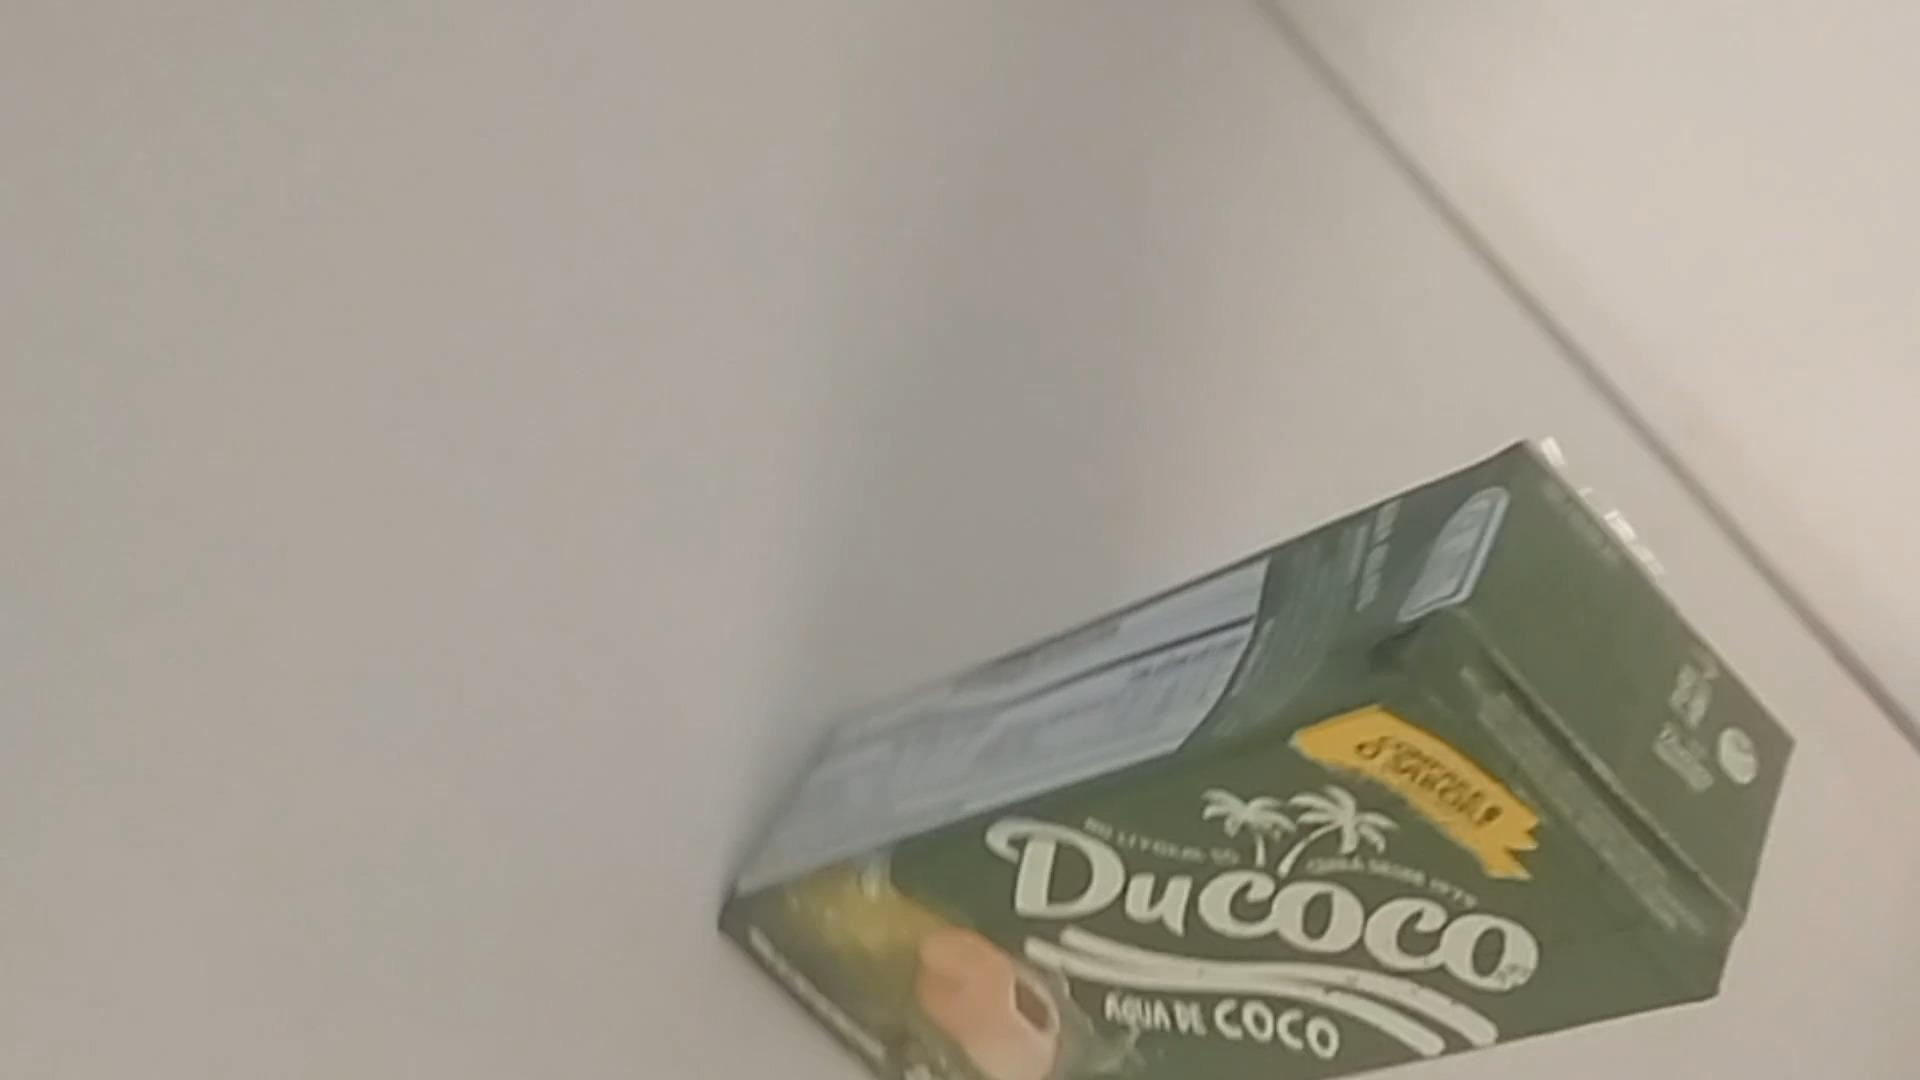coco: (723, 442, 1792, 1076)
